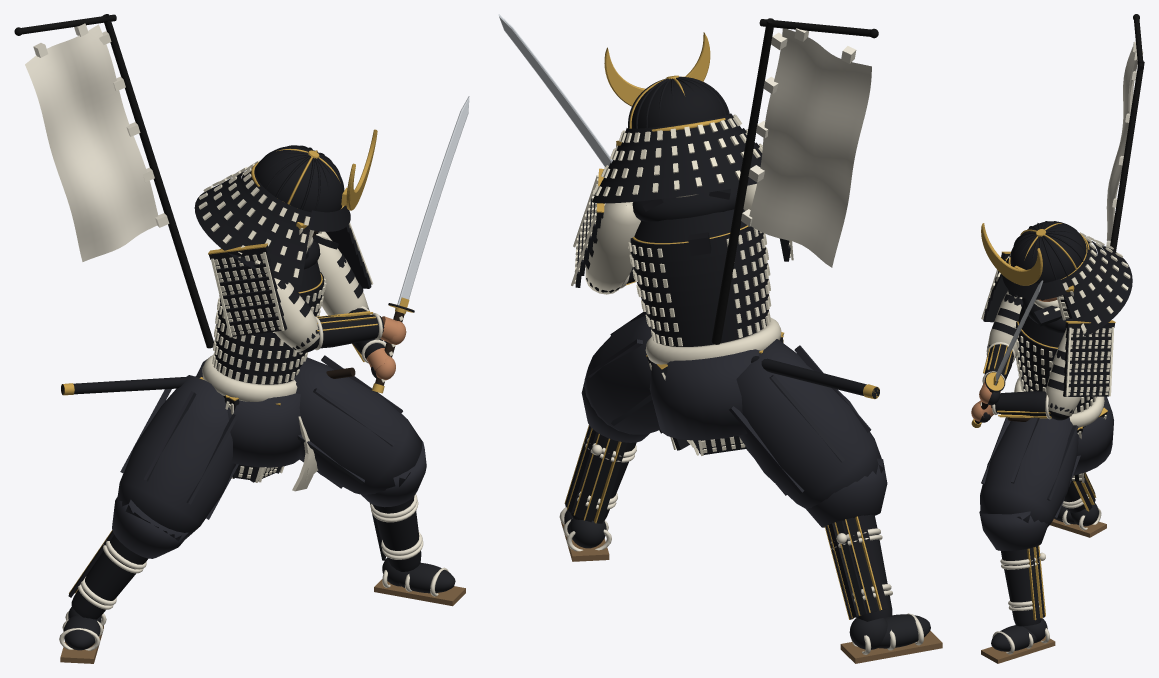
The model's file is samurai.glb.
3 renders of one model, left to right at view 1: azimuth 30°, elevation 25°; view 2: azimuth 150°, elevation 25°; view 3: azimuth 270°, elevation 25°, orthographic. The views are drawn at different scales.
Parts seen in each view (by area): view 1: Body_banner, Torso_black_lacquer, LegRight_hakama, LegLeft_hakama, ArmRight_black_lacquer, Torso_hakama, Torso_white_lacing, Body_pole, LegRight_black_lacquer, Torso_white_cloth, ArmRight_white_lacing, ArmLeft_white_cloth (+12 smaller); view 2: Torso_black_lacquer, Body_banner, LegRight_hakama, Torso_hakama, LegLeft_hakama, Torso_white_lacing, LegRight_black_lacquer, Body_pole, LegLeft_black_lacquer, ArmLeft_white_cloth, Torso_white_cloth, Torso_gold (+11 smaller); view 3: Torso_black_lacquer, LegLeft_hakama, ArmLeft_black_lacquer, Torso_white_lacing, LegLeft_black_lacquer, Torso_gold, Body_banner, Torso_hakama, ArmLeft_white_lacing, ArmRight_black_lacquer, Body_pole, LegLeft_black_lacquer_dull (+13 smaller).
Part boxes in pixels (bbox=[...]): Body_banner: bbox=[25, 23, 169, 261]; Torso_black_lacquer: bbox=[194, 145, 350, 482]; LegRight_hakama: bbox=[112, 375, 238, 558]; LegLeft_hakama: bbox=[293, 355, 426, 507]; ArmRight_black_lacquer: bbox=[209, 245, 384, 352]; Torso_hakama: bbox=[196, 359, 301, 467]; Torso_white_lacing: bbox=[198, 160, 327, 482]; Body_pole: bbox=[14, 14, 213, 348]; LegRight_black_lacquer: bbox=[68, 530, 147, 619]; Torso_white_cloth: bbox=[202, 237, 318, 491]; ArmRight_white_lacing: bbox=[211, 252, 284, 337]; ArmLeft_white_cloth: bbox=[316, 231, 369, 315]; Torso_black_lacquer: bbox=[592, 76, 783, 454]; Body_banner: bbox=[741, 28, 871, 267]; LegRight_hakama: bbox=[729, 339, 887, 527]; Torso_hakama: bbox=[649, 349, 760, 440]; LegLeft_hakama: bbox=[581, 311, 662, 442]; Torso_white_lacing: bbox=[592, 114, 783, 455]; LegRight_black_lacquer: bbox=[825, 514, 892, 621]; Body_pole: bbox=[711, 18, 878, 344]; LegLeft_black_lacquer: bbox=[565, 425, 636, 523]; ArmLeft_white_cloth: bbox=[585, 202, 640, 294]; Torso_white_cloth: bbox=[645, 194, 781, 364]; Torso_gold: bbox=[604, 32, 784, 369]; Torso_black_lacquer: bbox=[990, 221, 1132, 481]; LegLeft_hakama: bbox=[979, 417, 1080, 550]; ArmLeft_black_lacquer: bbox=[991, 322, 1114, 420]; Torso_white_lacing: bbox=[990, 232, 1130, 482]; LegLeft_black_lacquer: bbox=[1001, 546, 1044, 626]; Torso_gold: bbox=[981, 223, 1107, 430]; Body_banner: bbox=[1106, 41, 1143, 247]; Torso_hakama: bbox=[1010, 396, 1113, 475]; ArmLeft_white_lacing: bbox=[1065, 327, 1114, 396]; ArmRight_black_lacquer: bbox=[983, 253, 1022, 380]; Body_pole: bbox=[1110, 14, 1144, 251]; LegLeft_black_lacquer_dull: bbox=[991, 618, 1047, 651].
Bounding box in the file's own units: 1.53 × 2.14 × 0.6742.
